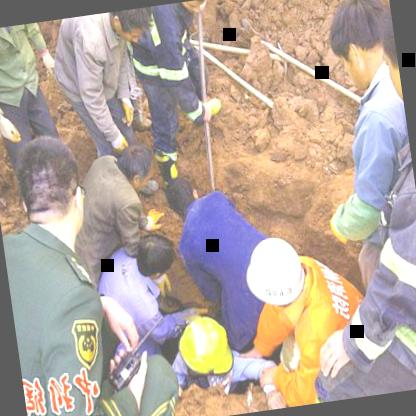helmet: (238, 226, 311, 334), (170, 308, 245, 402)
